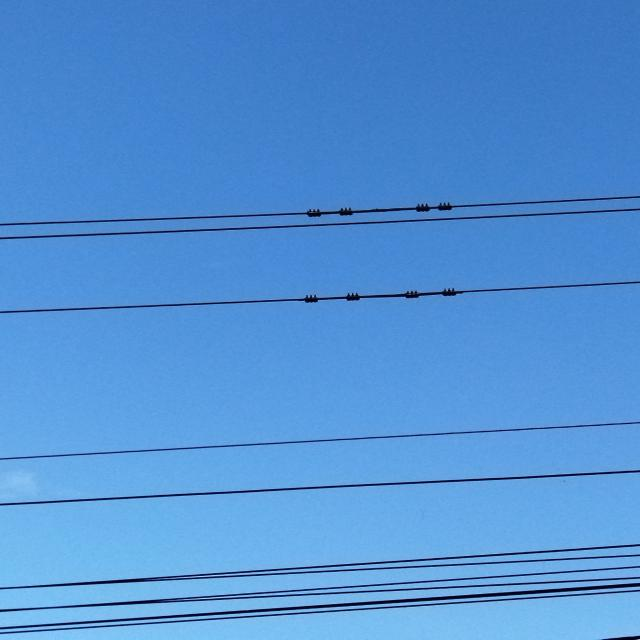wire: (1, 540, 640, 595), (1, 581, 640, 631), (0, 274, 640, 321), (0, 467, 640, 510), (315, 552, 640, 573), (305, 576, 640, 595)
